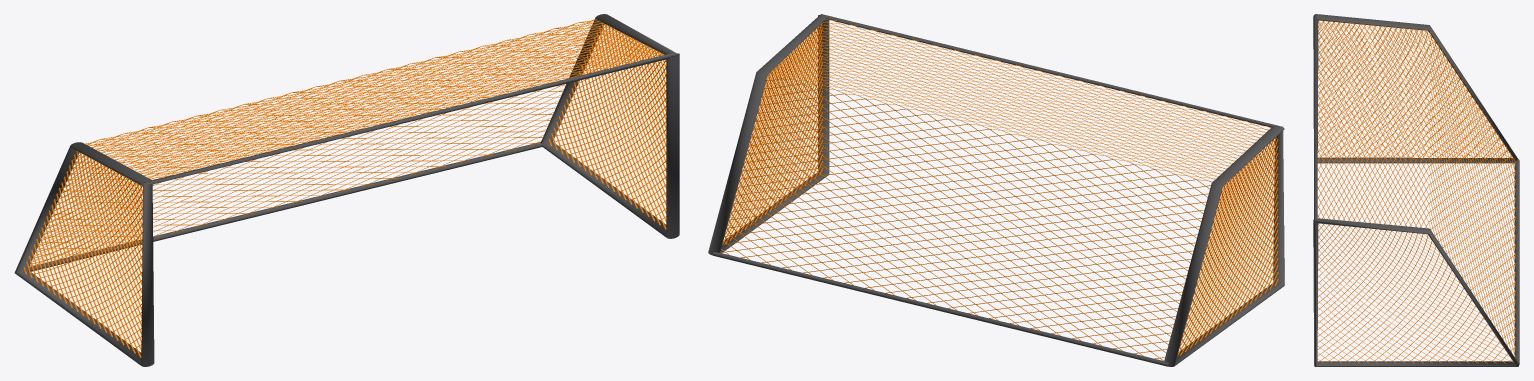
Rendered from Net.fbx.
3 renders of one model, left to right at view 1: azimuth 30°, elevation 25°; view 2: azimuth 150°, elevation 25°; view 3: azimuth 270°, elevation 25°, orthographic. The views are drawn at different scales.
Parts seen in each view (by area): view 1: Cube.001, Cube; view 2: Cube.001, Cube; view 3: Cube.001, Cube.
Boxes of the visible parts, x1,y1,x2,y2 form: Cube.001: [22, 19, 666, 357]; Cube: [14, 14, 679, 366]; Cube.001: [720, 19, 1278, 360]; Cube: [708, 14, 1284, 366]; Cube.001: [1317, 20, 1516, 363]; Cube: [1313, 14, 1519, 366].
Bounding box in the file's own units: 1496 × 492 × 625.
